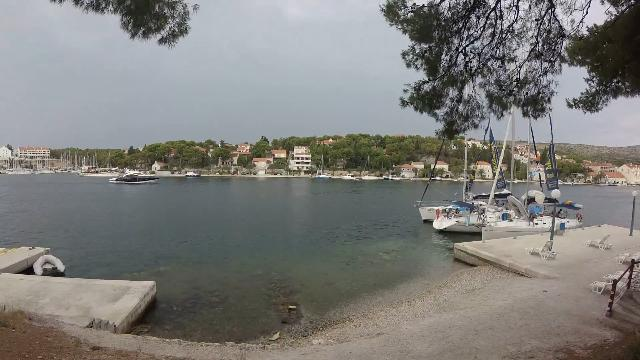speedboat: (106, 164, 162, 186)
